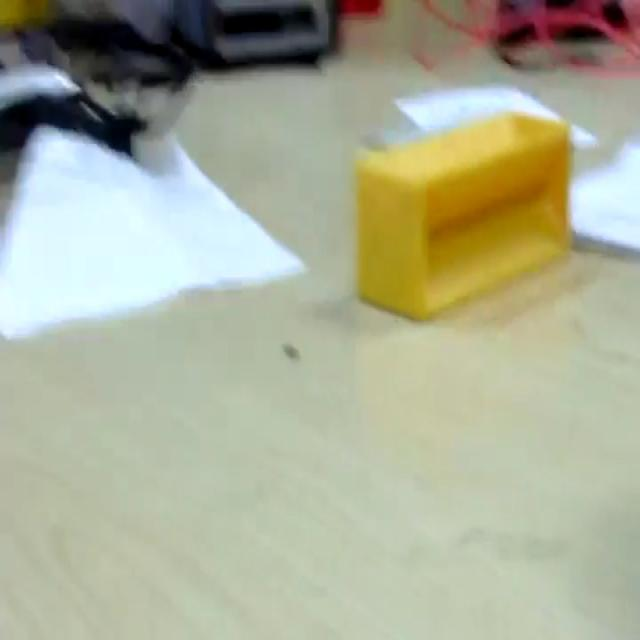yellow_block: (353, 104, 572, 320)
